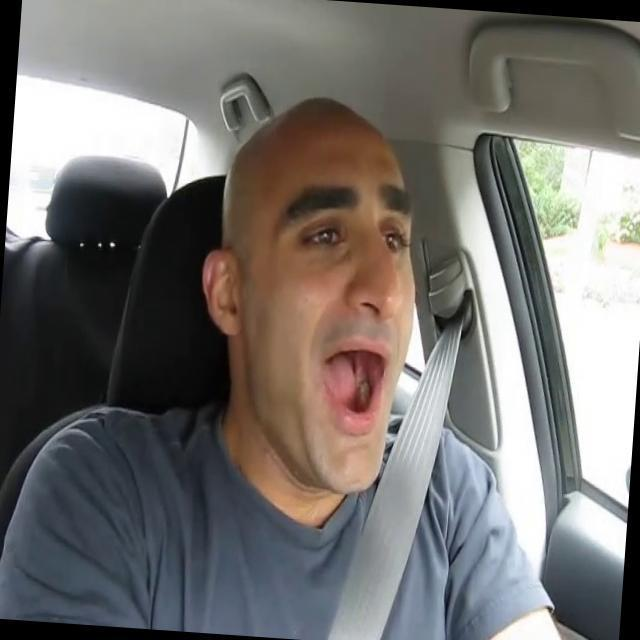open-mouth: (319, 340, 389, 428)
